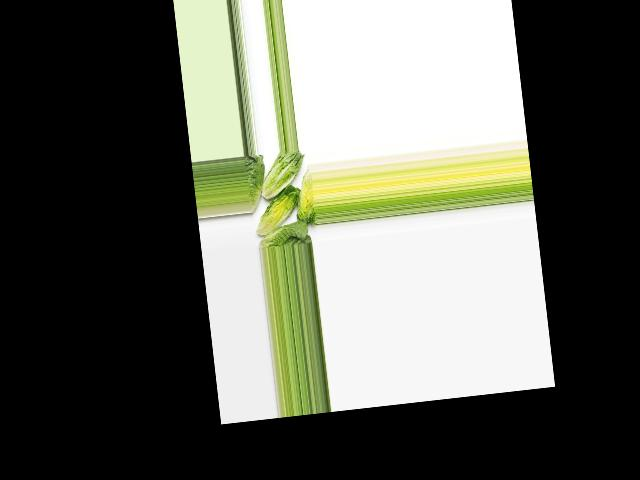lettuce: (258, 218, 312, 249)
